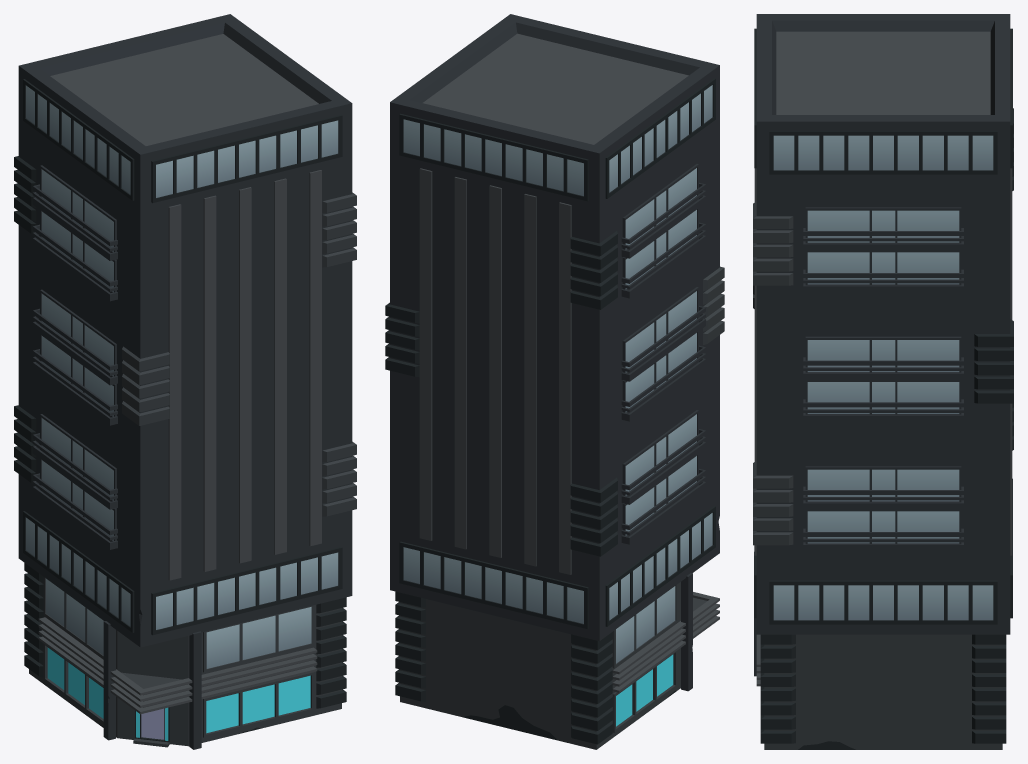
File: SM_Buildings_Office_03.fbx
The picture shows the model from 3 angles, left to right: view 1: azimuth 30°, elevation 25°; view 2: azimuth 150°, elevation 25°; view 3: azimuth 270°, elevation 25°; orthographic projection. The views are drawn at different scales.
Parts seen in each view (by area): view 1: SM_Buildings_Office_03; view 2: SM_Buildings_Office_03; view 3: SM_Buildings_Office_03.
Part boxes in pixels (bbox=[...]): SM_Buildings_Office_03: bbox=[14, 14, 356, 749]; SM_Buildings_Office_03: bbox=[385, 14, 724, 749]; SM_Buildings_Office_03: bbox=[753, 14, 1013, 749].
Size of the model in its own units: 16.16 by 41.09 by 15.37.
